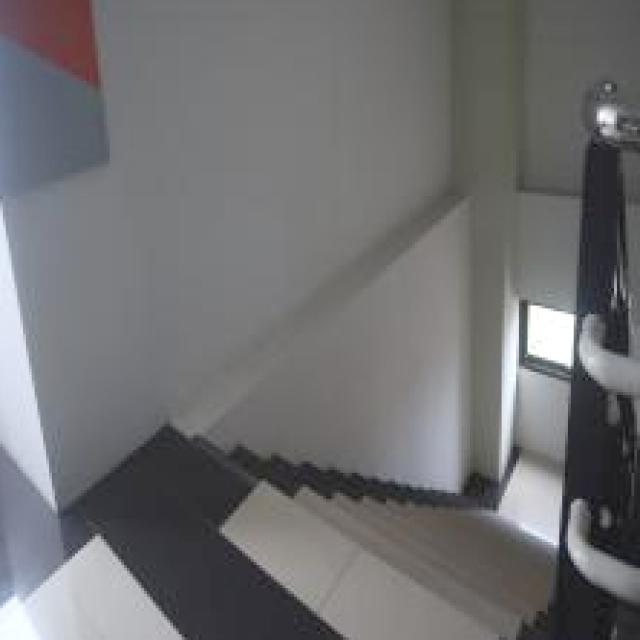downstair: (212, 445, 563, 640)
